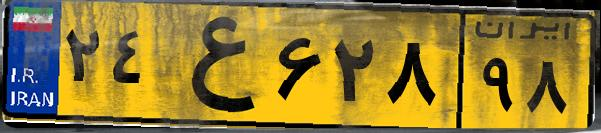2: (330, 28, 385, 110), (57, 26, 110, 100)
4: (110, 28, 158, 98)
6: (270, 28, 330, 110)
8: (385, 28, 445, 110), (525, 38, 570, 115)
9: (475, 38, 525, 113)
ع: (158, 12, 270, 120)
